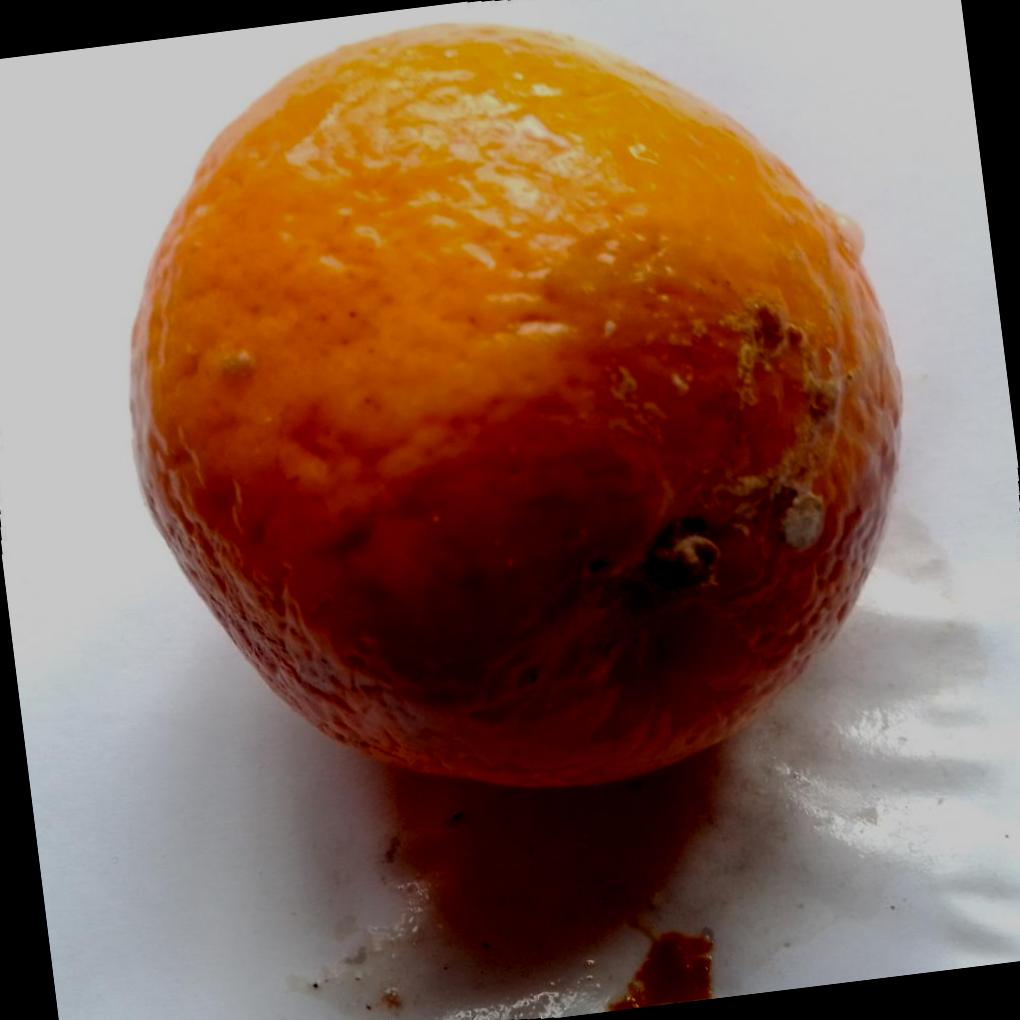FreshOrange: (125, 16, 906, 793)
